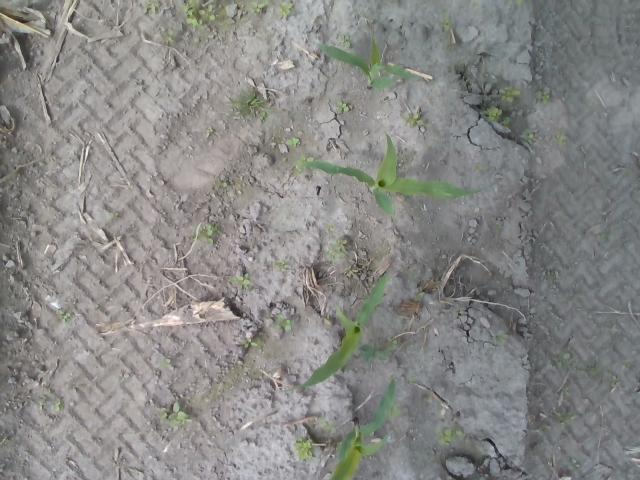Maize: (292, 136, 494, 217), (279, 271, 398, 388), (326, 379, 398, 480), (312, 32, 418, 96)
Weeds: (182, 0, 220, 29), (159, 399, 190, 428), (360, 342, 390, 364), (324, 238, 348, 262), (544, 348, 570, 370), (487, 104, 511, 126), (272, 313, 296, 334), (438, 426, 464, 445), (293, 435, 312, 460), (195, 222, 215, 245), (501, 84, 522, 103), (318, 416, 338, 435), (232, 273, 252, 290), (402, 112, 424, 127), (275, 1, 293, 16), (535, 86, 550, 104), (142, 0, 159, 13), (248, 1, 264, 14), (336, 100, 350, 114), (339, 34, 352, 48), (440, 14, 450, 32), (526, 128, 537, 144), (324, 222, 338, 234), (56, 310, 70, 321), (157, 358, 171, 369), (160, 30, 172, 42), (215, 177, 228, 188), (286, 136, 300, 146), (274, 260, 288, 270), (244, 338, 256, 349), (54, 401, 64, 412), (560, 134, 566, 146)
